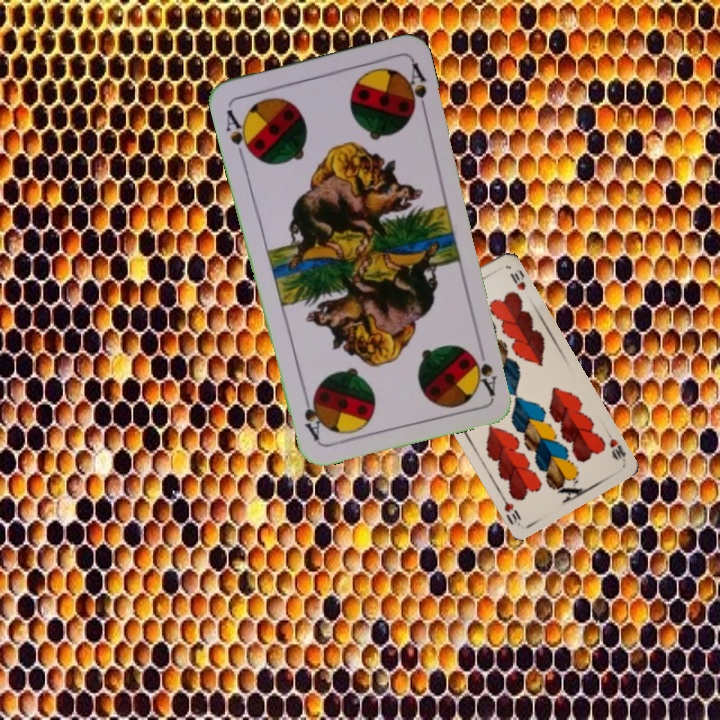H10: (602, 427, 628, 464)
SA: (222, 105, 256, 162), (471, 352, 500, 398)
